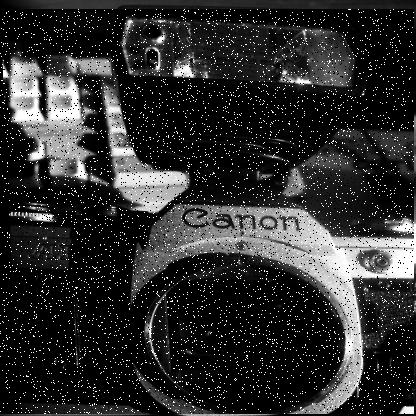Camera: (1, 10, 416, 416)
